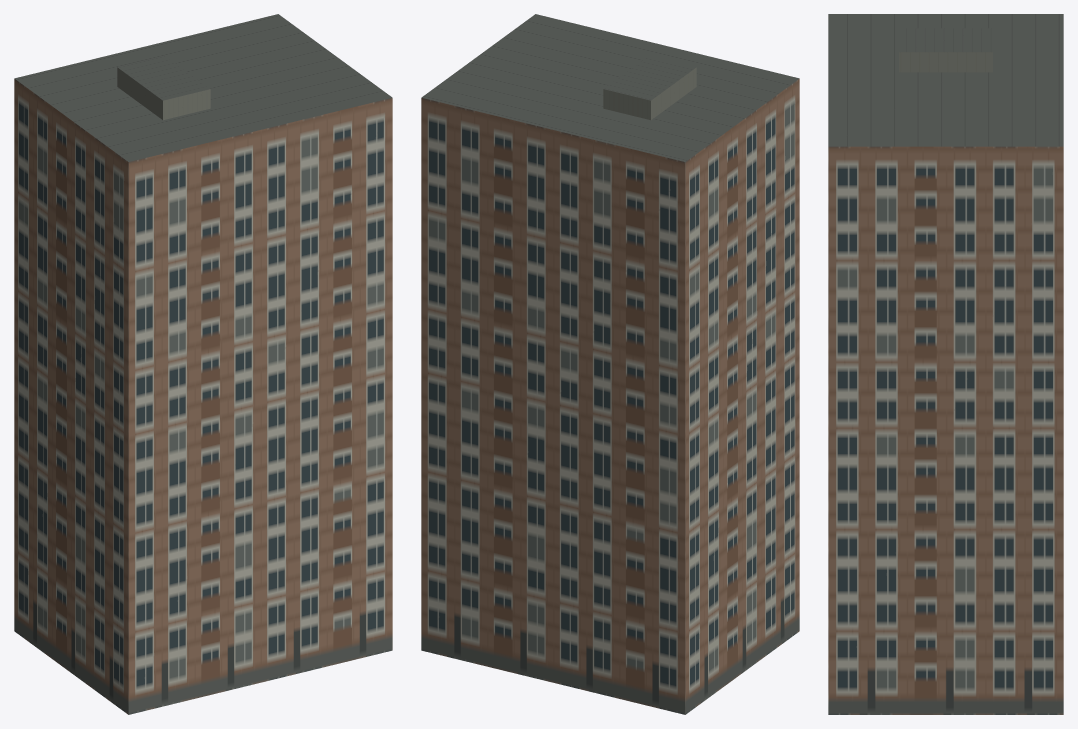
Rendered from kyiv_tower_16_02.obj.
The picture shows the model from 3 angles, left to right: view 1: azimuth 30°, elevation 25°; view 2: azimuth 150°, elevation 25°; view 3: azimuth 270°, elevation 25°; orthographic projection. The views are drawn at different scales.
Visible parts, largest first — view 1: kyiv_tower_16_02; view 2: kyiv_tower_16_02; view 3: kyiv_tower_16_02.
Part boxes in pixels (box(x1,y1,x2,y2)): kyiv_tower_16_02: box(14, 14, 392, 714); kyiv_tower_16_02: box(421, 14, 799, 714); kyiv_tower_16_02: box(828, 14, 1063, 714).
Size of the model in its own units: 24 by 49.7 by 18.
1 material, 1 textured.
